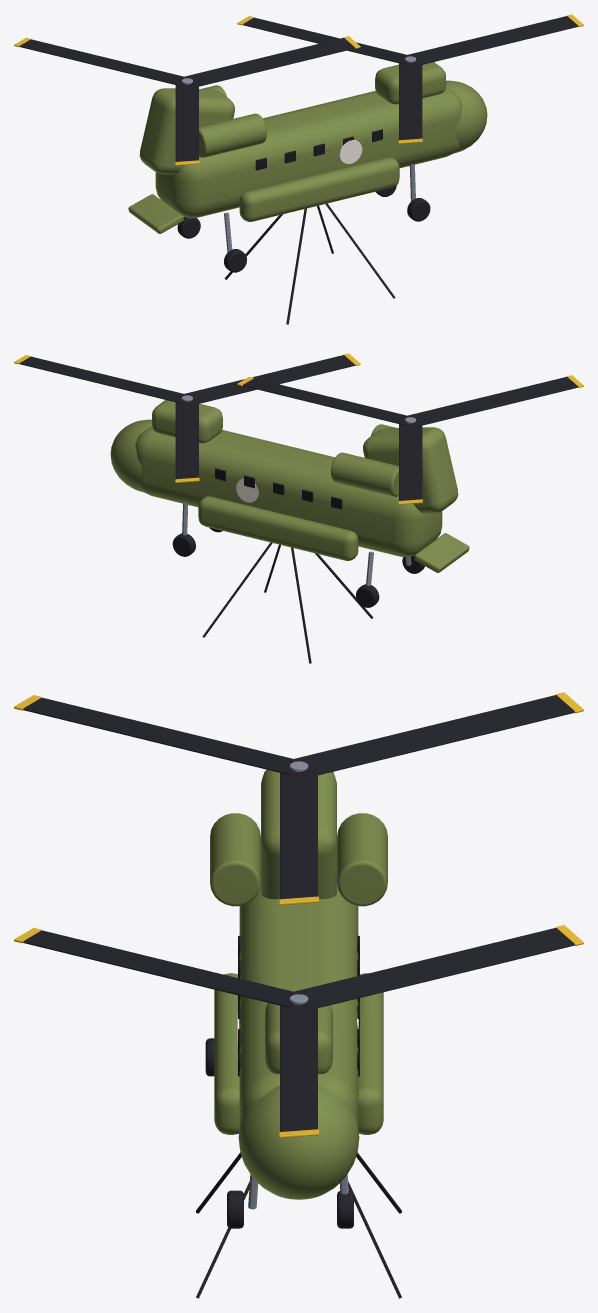
File: chinook.glb
3 renders of one model, top to bottom at view 1: azimuth 30°, elevation 25°; view 2: azimuth 150°, elevation 25°; view 3: azimuth 270°, elevation 25°, orthographic. The views are drawn at different scales.
Parts seen in each view (by area): view 1: chinook.002, rotorB.002, rotorF.002; view 2: chinook.002, rotorB.002, rotorF.002; view 3: chinook.002, rotorB.002, rotorF.002.
Boxes of the visible parts, <box> form: chinook.002: <box>128,62,487,324</box>; rotorB.002: <box>14,36,360,165</box>; rotorF.002: <box>237,14,583,143</box>; chinook.002: <box>110,400,469,663</box>; rotorB.002: <box>237,375,583,504</box>; rotorF.002: <box>14,353,360,482</box>; chinook.002: <box>196,769,401,1298</box>; rotorB.002: <box>14,692,583,905</box>; rotorF.002: <box>14,925,583,1138</box>.
Size of the model in its own units: 21.66 by 10.23 by 13.46.
1 material, 1 textured.
